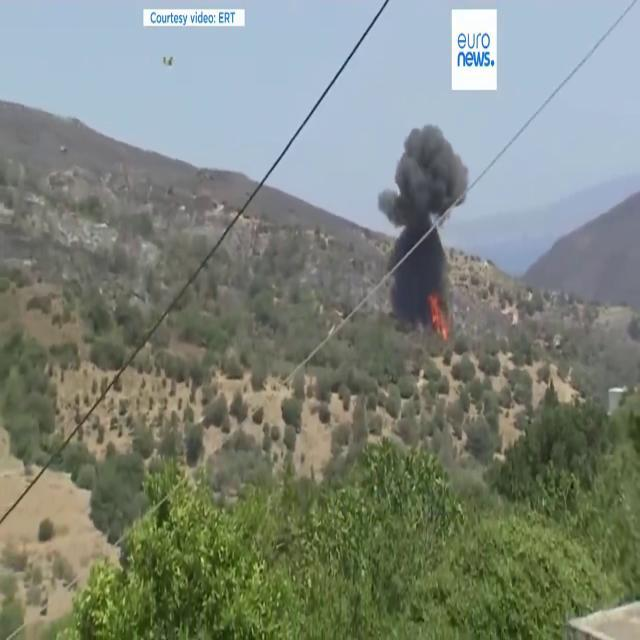Fire: (426, 289, 452, 343)
Smoke: (376, 111, 470, 309)
